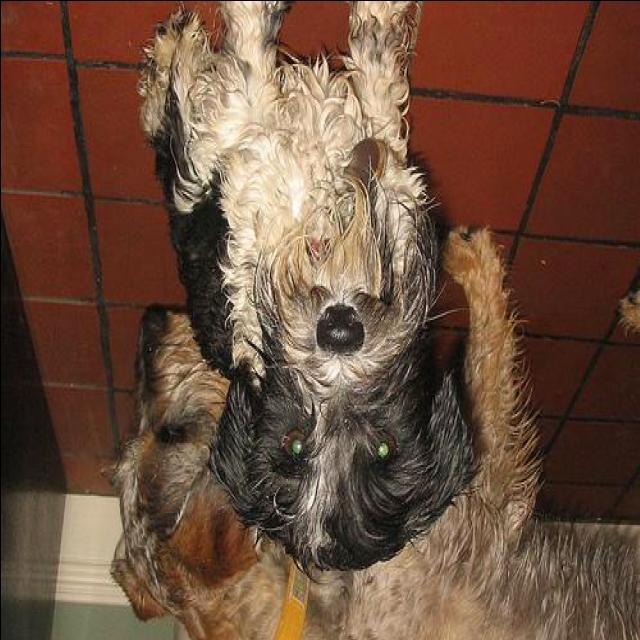standard_schnauzer: (109, 218, 639, 640), (134, 2, 482, 576)
